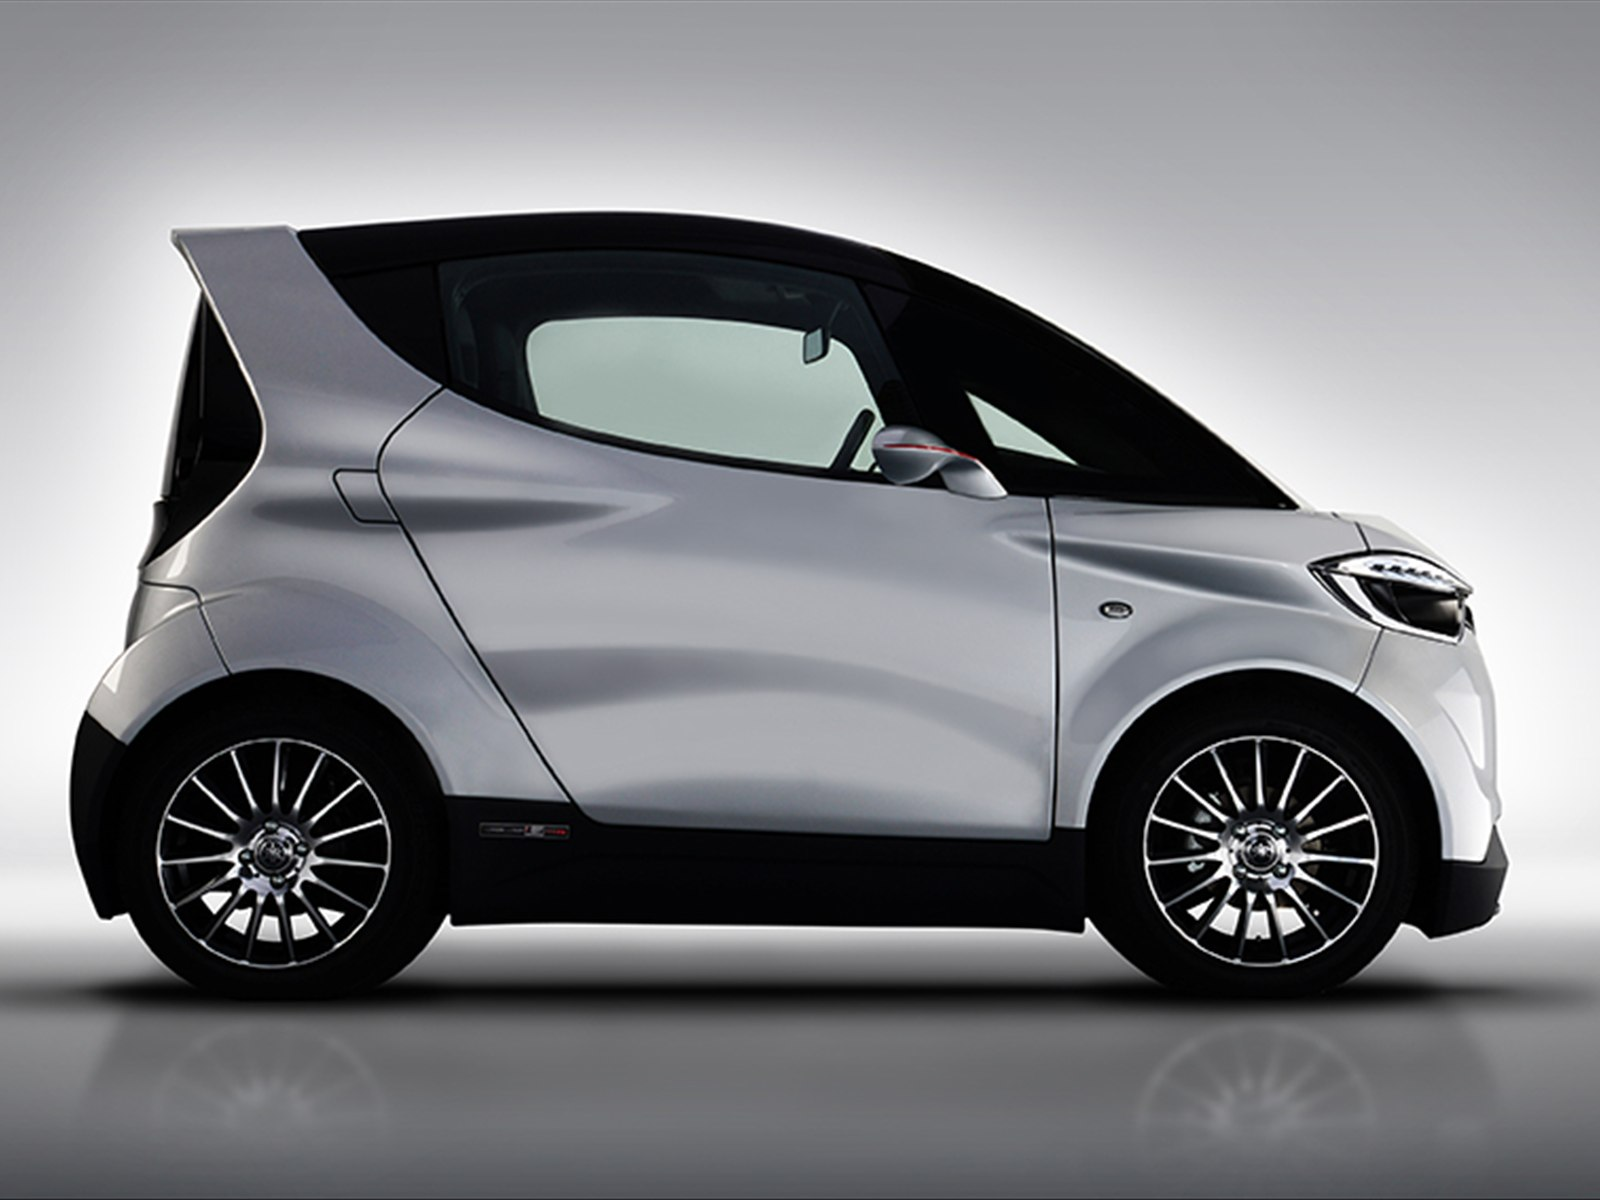Carro: (66, 207, 1516, 1000)
